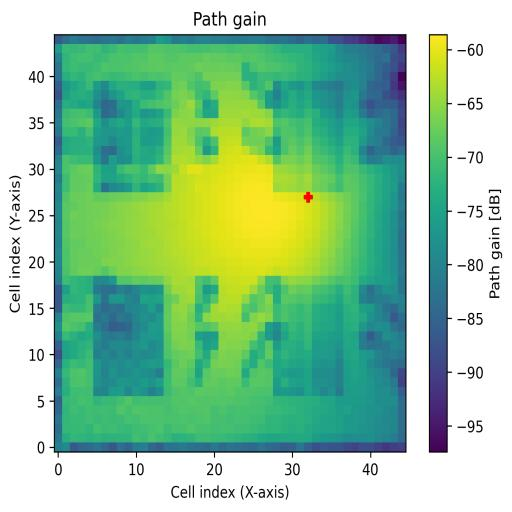Concrete: (273, 80, 343, 192)
Glass: (94, 82, 172, 192)
Metal: (275, 285, 344, 397)
Wood: (93, 287, 165, 398)
